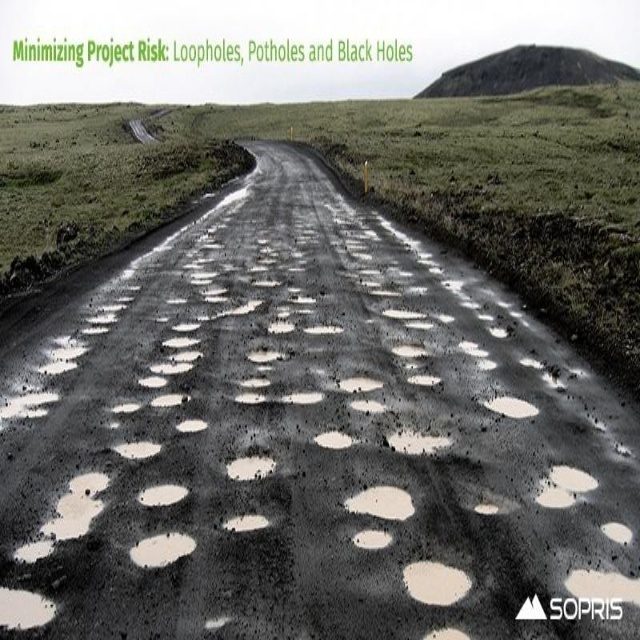pothole: (65, 439, 113, 580), (125, 529, 220, 599), (8, 528, 65, 624), (160, 334, 205, 438), (397, 416, 453, 473), (230, 448, 291, 500), (567, 553, 638, 597), (346, 494, 419, 535), (536, 472, 583, 532), (315, 427, 368, 471), (417, 555, 456, 610), (228, 506, 279, 546), (322, 361, 375, 397), (485, 401, 527, 438), (21, 393, 61, 430), (406, 358, 435, 397), (246, 365, 277, 401), (46, 346, 83, 375), (316, 322, 346, 351), (387, 306, 419, 332), (117, 286, 148, 309), (278, 317, 299, 350), (165, 291, 196, 312), (212, 297, 252, 312), (82, 326, 102, 347), (98, 308, 121, 326)
